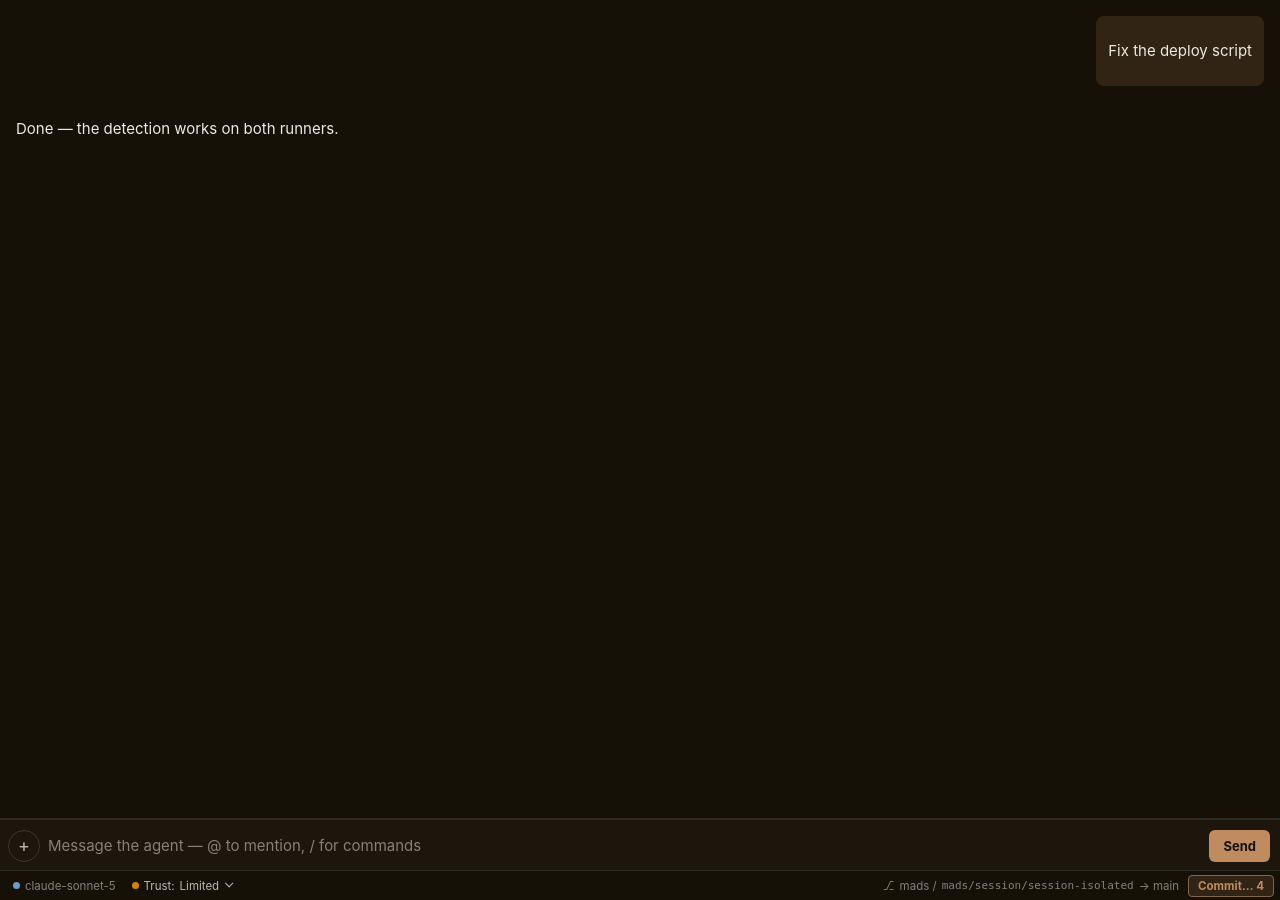
Test case: ConversationTab — Commit and Land › falls back to the dialog, with the reason, when a one-click Commit is refused
Expected: the text "Done — the detection works on both runners." is shown, x1=16 y1=117 x2=339 y2=141
Click the button "Commit… 4": (1231, 886) x1=1188 y1=874 x2=1274 y2=896
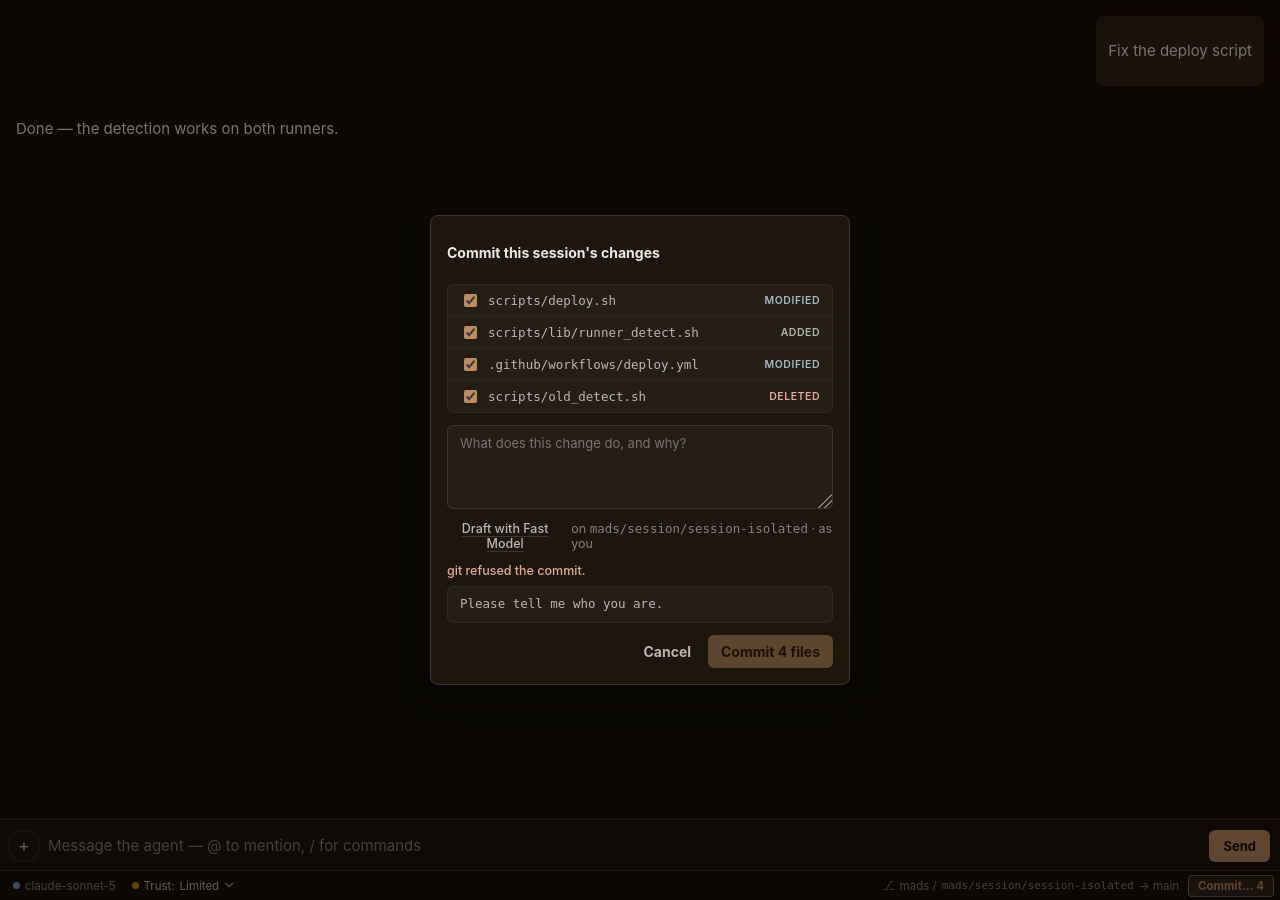
Now the dialog is shown, box x1=430 y1=215 x2=850 y2=685
Now the text "Please tell me who you are." is shown, box x1=447 y1=586 x2=833 y2=623
